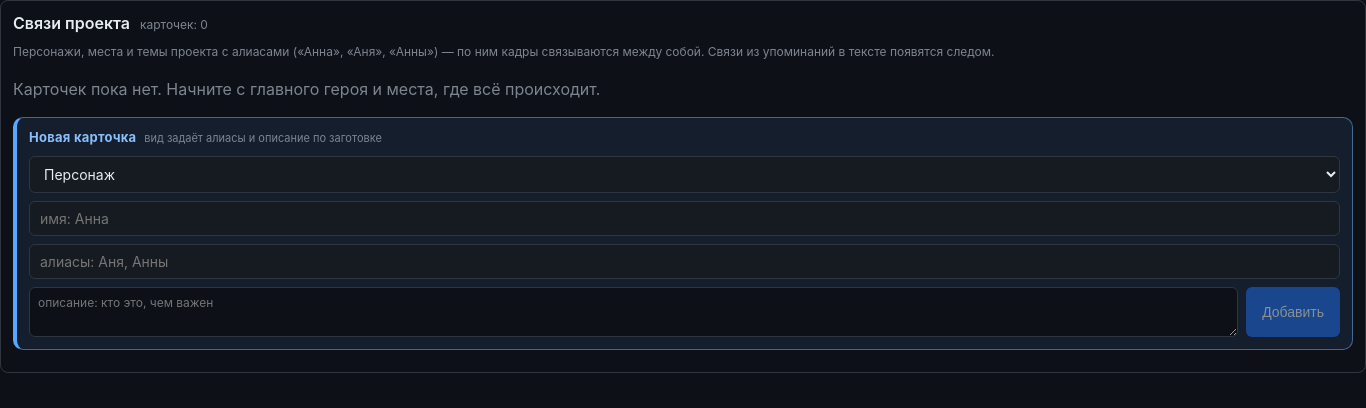
Test case: EntitiesPanel › создание: имя, алиасы и описание уезжают на сервер, список перечитывается
This screenshot has width=1366, height=408.
Expected: the text "Карточек пока нет" is shown, [13,79,600,99]
In the field named "Имя карточки": (684, 218) [29,200,1340,236], type "Сторож"
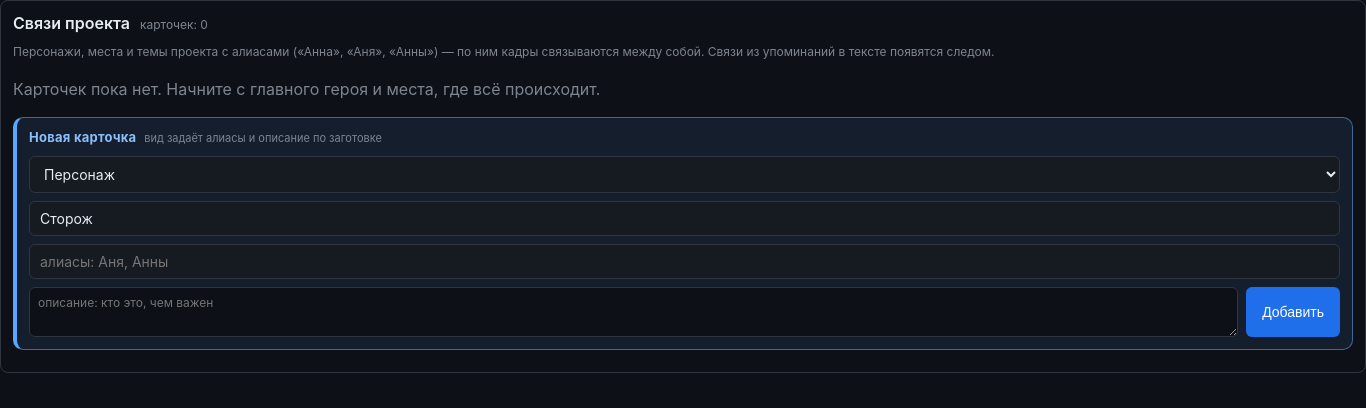
In the field named "Алиасы карточки": (684, 261) [29,244,1340,278], type "Сторожа, "
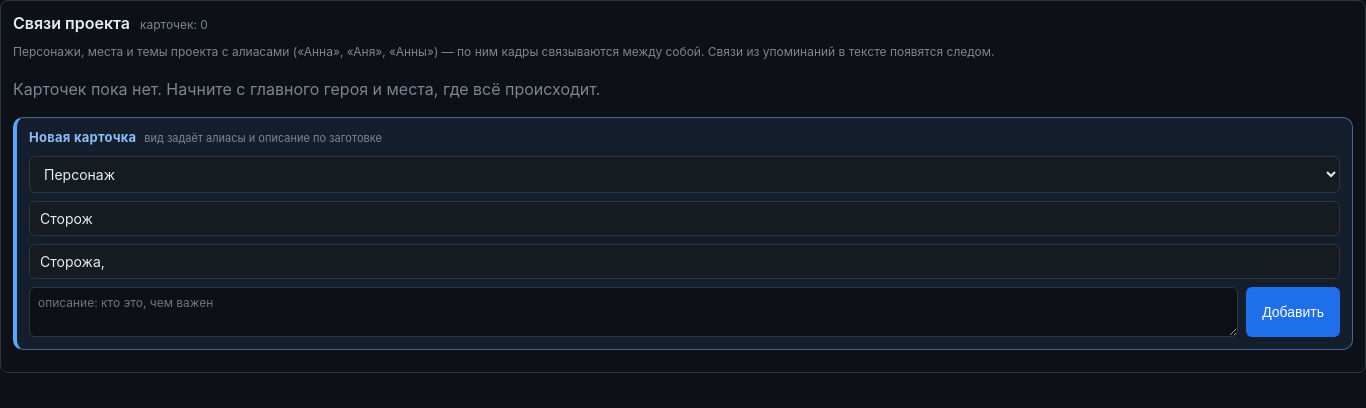
In the text box named "Описание карточки": (634, 312) [29,286,1238,336], type "  молчаливый сторож  "
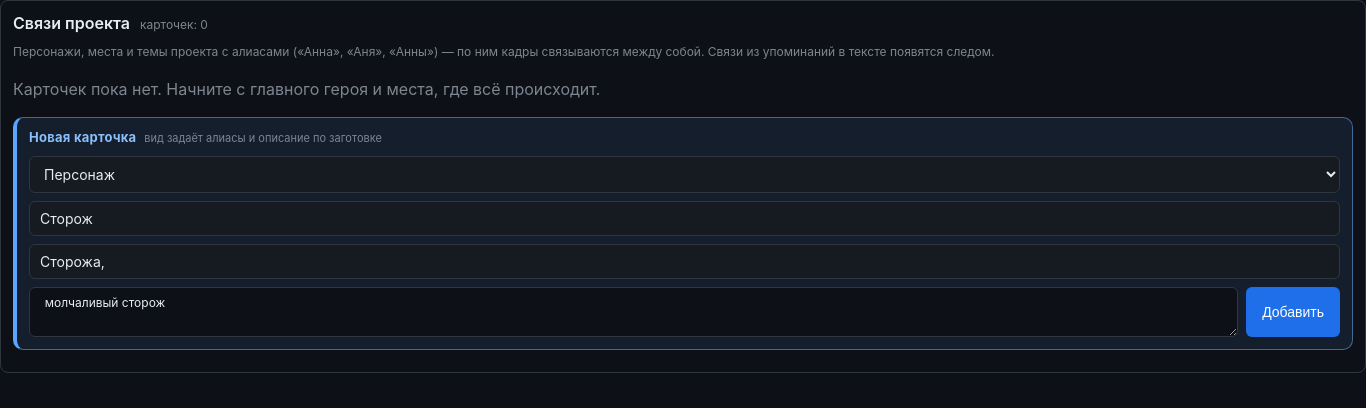
Click the button "Добавить": (1293, 312) [1246,286,1340,336]
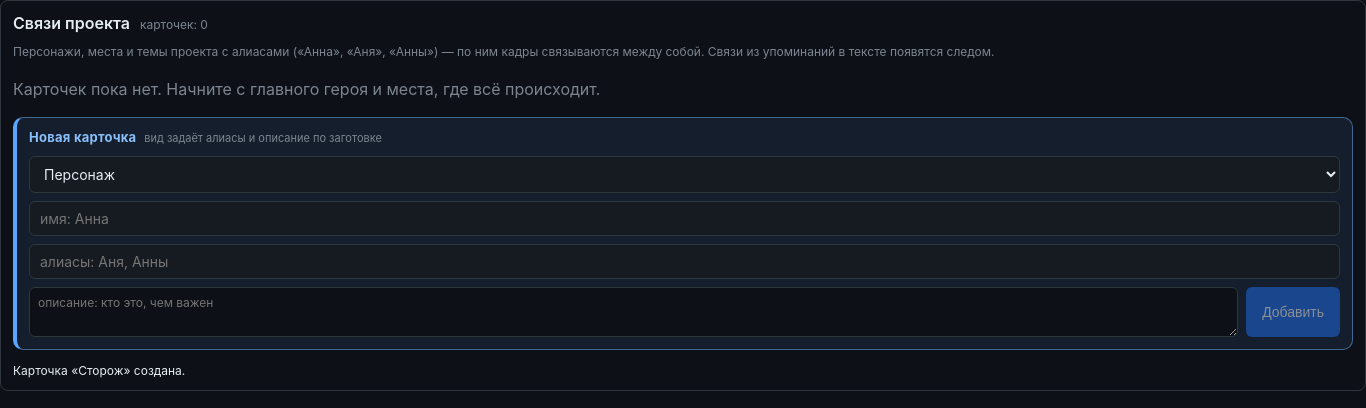
Now the text "Карточка «Сторож» создана." is shown, box [13,362,185,378]
